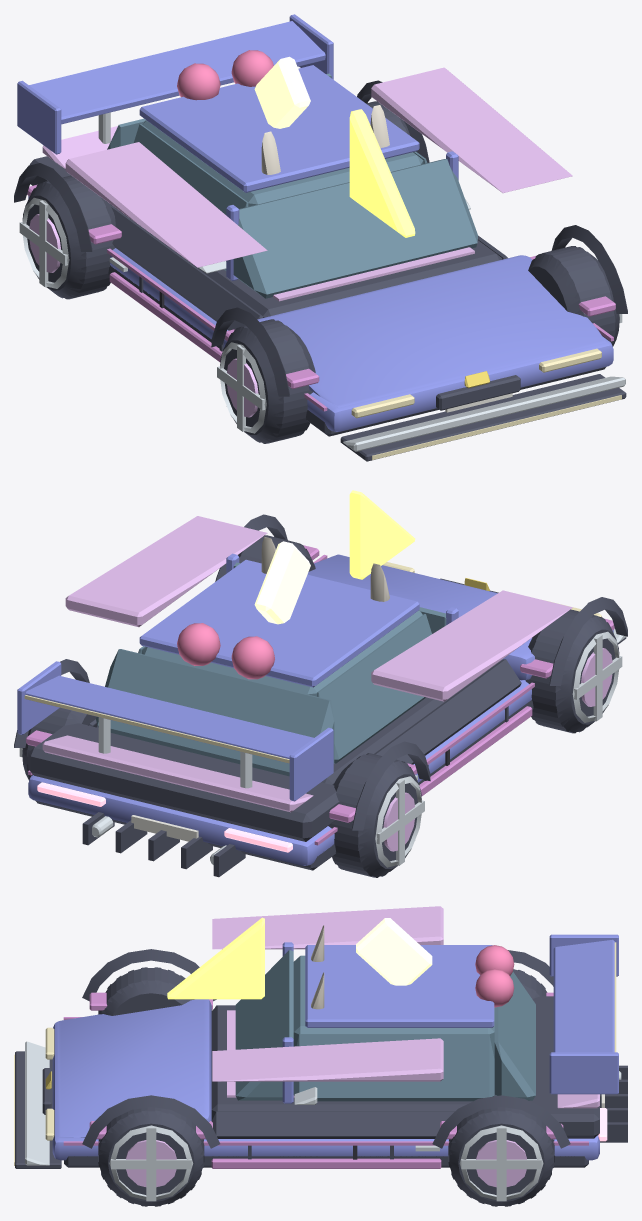
The model's file is phoenix_phantom.fbx.
3 views of the same model, one above another, from view 1: azimuth 30°, elevation 25°; view 2: azimuth 150°, elevation 25°; view 3: azimuth 270°, elevation 25° (orthographic). The views are drawn at different scales.
Visible parts, largest first — view 1: Body, Glass, Trim, Light3, Wheel_FR, Wheel_RR, Metal, Light4, Accent, Wheel_FL, Accent2, Accent3 (+5 smaller); view 2: Body, Trim, Glass, Light3, Metal, Accent3, Wheel_RR, Wheel_FR, Accent, Light4, Accent5, Light5 (+7 smaller); view 3: Body, Trim, Glass, Light3, Metal, Wheel_FL, Wheel_RL, Accent, Light4, Light5, Accent2, Wheel_FR (+6 smaller).
Boxes of the visible parts, box(x1,y1,x2,y2) form: Body: box(17, 14, 613, 431); Glass: box(107, 73, 478, 298); Trim: box(14, 80, 627, 461); Light3: box(65, 67, 572, 267); Wheel_FR: box(220, 319, 315, 443); Wheel_RR: box(22, 175, 115, 299); Metal: box(19, 112, 622, 433); Light4: box(349, 109, 415, 237); Accent: box(27, 184, 615, 411); Wheel_FL: box(528, 246, 619, 346); Accent2: box(199, 199, 625, 451); Accent3: box(42, 126, 474, 301); Body: box(17, 553, 613, 865); Trim: box(14, 514, 627, 877); Glass: box(96, 562, 446, 776); Light3: box(65, 516, 572, 701); Metal: box(19, 631, 622, 867); Accent3: box(42, 735, 313, 812); Wheel_RR: box(328, 753, 421, 877); Wheel_FR: box(525, 609, 619, 733); Accent: box(26, 545, 614, 845); Light4: box(349, 490, 415, 579); Accent5: box(177, 623, 274, 679); Light5: box(254, 541, 310, 624); Body: box(52, 934, 618, 1160); Trim: box(15, 949, 627, 1168); Glass: box(235, 950, 535, 1101); Light3: box(212, 906, 443, 1081); Metal: box(109, 1071, 621, 1201); Wheel_FL: box(98, 1107, 204, 1206); Wheel_RL: box(448, 1107, 554, 1206); Accent: box(63, 992, 588, 1168); Light4: box(167, 917, 264, 999); Light5: box(356, 918, 432, 985); Accent2: box(25, 1041, 317, 1165); Wheel_FR: box(98, 967, 194, 1015).
Size of the model in its own units: 3.5 by 2.13 by 5.5.
